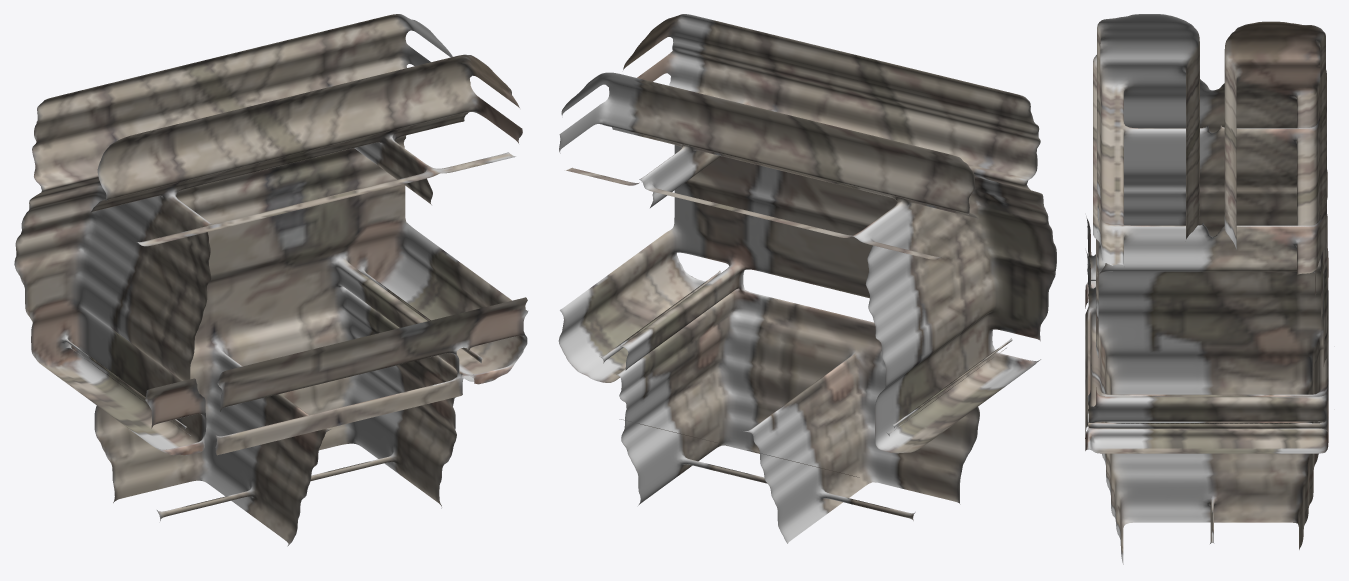
The model's file is luke-visual-hull.glb.
The picture shows the model from 3 angles, left to right: view 1: azimuth 30°, elevation 25°; view 2: azimuth 150°, elevation 25°; view 3: azimuth 270°, elevation 25°; orthographic projection. The views are drawn at different scales.
Parts seen in each view (by area): view 1: world; view 2: world; view 3: world.
Part boxes in pixels (x1=…): world: x1=14, y1=14, x2=528, y2=546; world: x1=558, y1=14, x2=1056, y2=543; world: x1=1085, y1=14, x2=1328, y2=564.
Size of the model in its own units: 0.9699 by 1 by 0.5447.
